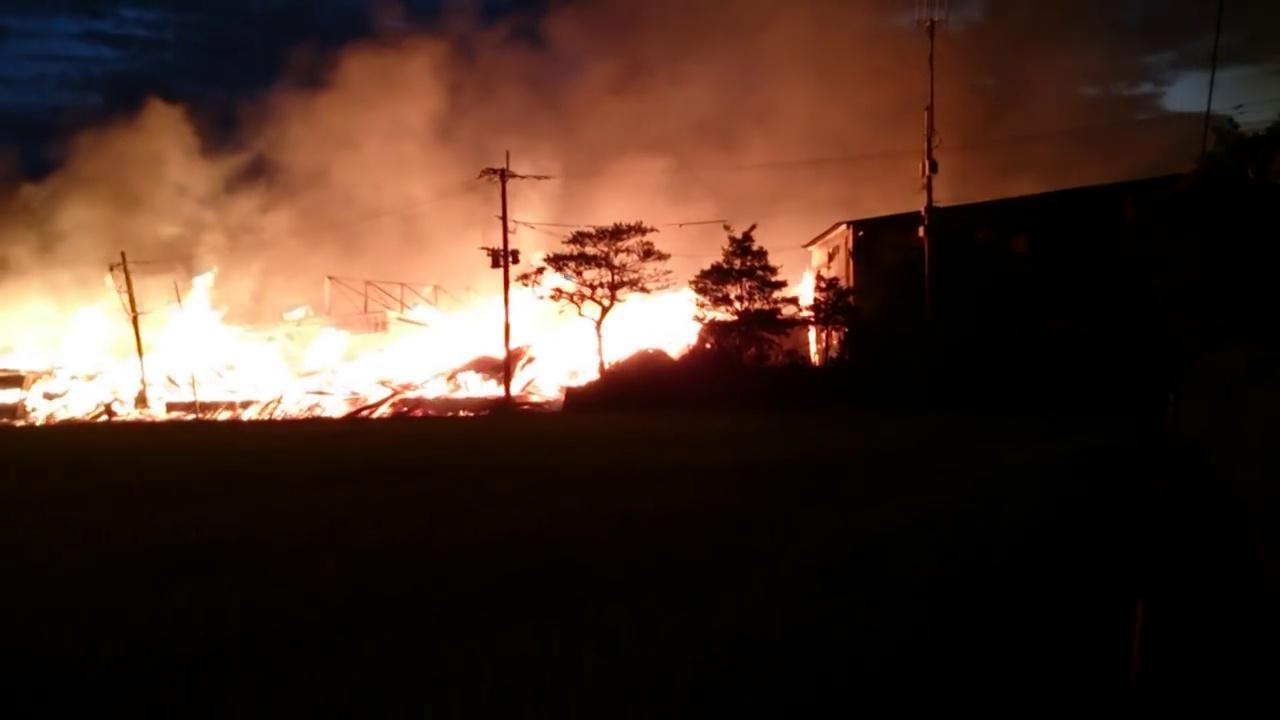Fire: (5, 254, 737, 420), (793, 266, 823, 366)
